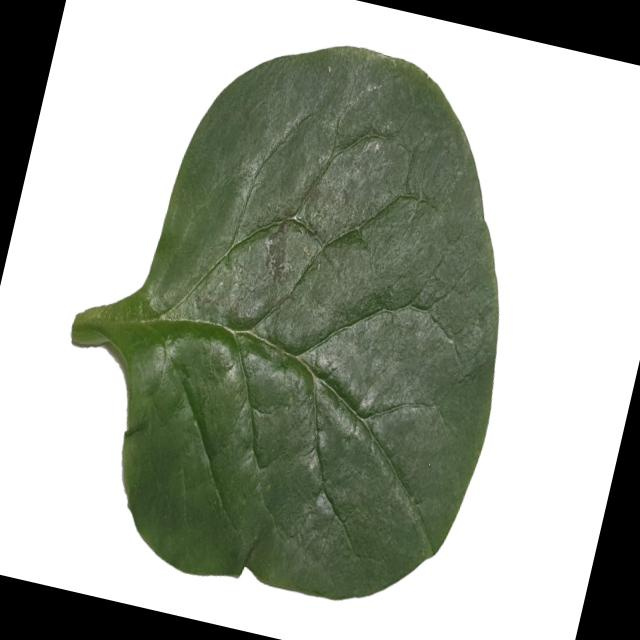Medicinal-Basale: (25, 0, 563, 635)
